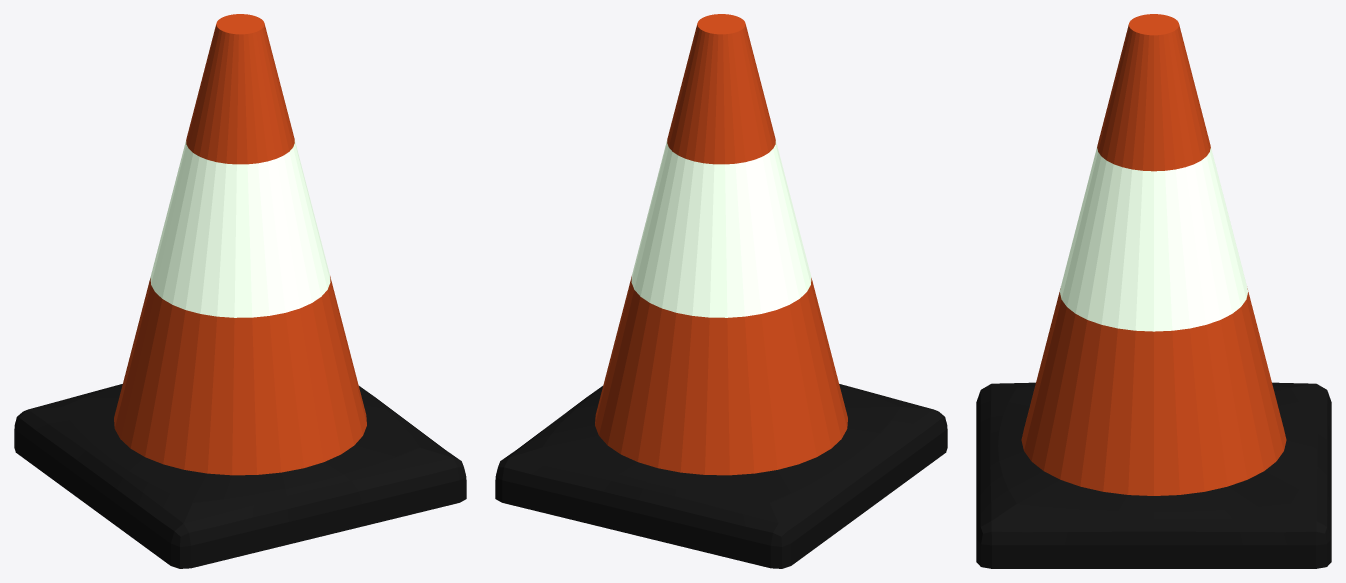
File: traffic_cone.glb
3 renders of one model, left to right at view 1: azimuth 30°, elevation 25°; view 2: azimuth 150°, elevation 25°; view 3: azimuth 270°, elevation 25°, orthographic. The views are drawn at different scales.
Parts seen in each view (by area): view 1: Cone; view 2: Cone; view 3: Cone.
Part boxes in pixels (bbox=[...]): Cone: bbox=[14, 14, 466, 568]; Cone: bbox=[495, 14, 947, 568]; Cone: bbox=[976, 14, 1331, 568].
Size of the model in its own units: 0.4634 by 0.6759 by 0.4634.
